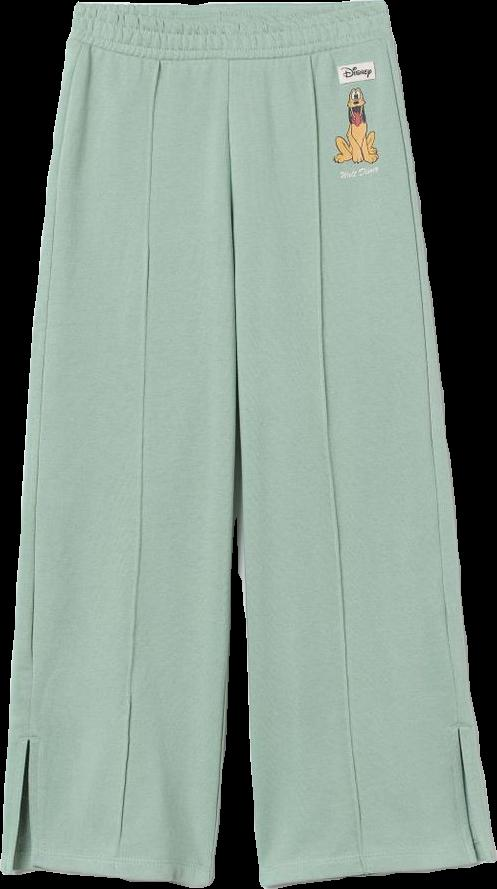Hemline: (258, 854, 496, 888), (0, 865, 214, 888)
Pantleg: (226, 0, 496, 887), (0, 2, 238, 886)
Waistline: (65, 33, 392, 69), (77, 0, 383, 21)
